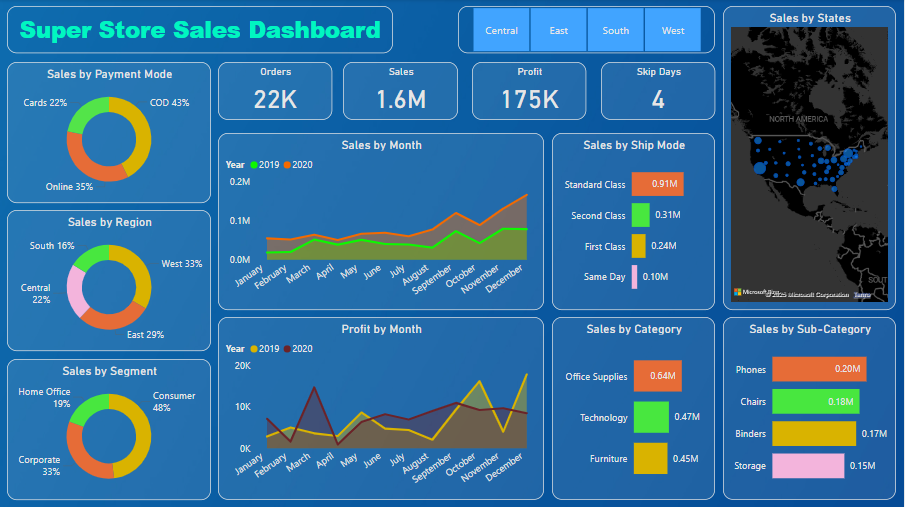

What the dashboard file says about the page in this screenshot:
{"tool":"powerbi","page":{"name":"SuperStore Sales Dashboard","canvas":[1280,720],"ordinal":0},"visuals":[{"type":"slicer","fields":{"Values":["Sheet1.Region"]},"box":[649.1,9.9,364.3,67],"z":0},{"type":"textbox","box":[9.9,9.9,547.1,67],"z":1000},{"type":"clusteredBarChart","title":"Sales by Sub-Category","fields":{"Category":["Sheet1.Sub-Category"],"Y":["Sum(Sheet1.Sales)"]},"box":[1024.7,450.7,245.2,259.4],"z":2000},{"type":"clusteredBarChart","title":"Sales by Category","fields":{"Category":["Sheet1.Category"],"Y":["Sum(Sheet1.Sales)"]},"box":[782.4,450.7,231,259.4],"z":3000},{"type":"clusteredBarChart","title":"Sales by Ship Mode","fields":{"Category":["Sheet1.Ship Mode"],"Y":["Sum(Sheet1.Sales)"]},"box":[782.4,189.9,231,250.9],"z":4000},{"type":"donutChart","title":"Sales by Segment","fields":{"Category":["Sheet1.Segment"],"Y":["Sum(Sheet1.Sales)"]},"box":[9.9,510.2,289.1,200],"z":5000},{"type":"areaChart","title":"Sales by Month","fields":{"Y":["Sum(Sheet1.Sales)"],"Category":["Sheet1.Order Date.Variation.Date Hierarchy.Month","Sheet1.Order Date.Variation.Date Hierarchy.Day"],"Series":["Sheet1.Order Date.Variation.Date Hierarchy.Year"]},"box":[309,189.9,462,251],"z":6000},{"type":"areaChart","title":"Profit by Month","fields":{"Y":["Sum(Sheet1.Profit)"],"Series":["Sheet1.Order Date.Variation.Date Hierarchy.Year"],"Category":["Sheet1.Order Date.Variation.Date Hierarchy.Month","Sheet1.Order Date.Variation.Date Hierarchy.Day"]},"box":[309,450.7,462,259.4],"z":7000},{"type":"donutChart","title":"Sales by Payment Mode","fields":{"Category":["Sheet1.Payment Mode"],"Y":["Sum(Sheet1.Sales)"]},"box":[9.9,89.3,289.1,200],"z":8000},{"type":"card","title":"Sales","fields":{"Values":["Sum(Sheet1.Sales)"]},"box":[486.1,89.3,163,82.2],"z":9000},{"type":"card","title":"Orders","fields":{"Values":["Sum(Sheet1.Quantity)"]},"box":[309,89.3,162,82.2],"z":10000},{"type":"card","title":"Profit","fields":{"Values":["Sum(Sheet1.Profit)"]},"box":[669,89.3,162,82.2],"z":11000},{"type":"card","title":"Skip Days","fields":{"Values":["Avg(Sheet1.AvgDelivery)"]},"box":[851.8,89.3,162,82.2],"z":12000},{"type":"donutChart","title":"Sales by Region","fields":{"Y":["Sum(Sheet1.Sales)"],"Category":["Sheet1.Region"]},"box":[9.9,299.1,289.1,200],"z":13000},{"type":"map","title":"Sales by States","fields":{"Category":["Sheet1.State"],"Size":["Sum(Sheet1.Sales)"]},"box":[1024.7,9.9,245.2,430.9],"z":14000}]}

Visuals, with their boxes in screenshot pixels (x1, y1, x2, y2), scaled from the page's 1280x720 canvas onto the 905x507 screenshot:
slicer - Sheet1.Region: region(459, 7, 717, 54)
textbox: region(7, 7, 394, 54)
"Sales by Sub-Category" clusteredBarChart: region(724, 317, 898, 500)
"Sales by Category" clusteredBarChart: region(553, 317, 717, 500)
"Sales by Ship Mode" clusteredBarChart: region(553, 134, 717, 310)
"Sales by Segment" donutChart: region(7, 359, 211, 500)
"Sales by Month" areaChart: region(218, 134, 545, 310)
"Profit by Month" areaChart: region(218, 317, 545, 500)
"Sales by Payment Mode" donutChart: region(7, 63, 211, 204)
"Sales" card: region(344, 63, 459, 121)
"Orders" card: region(218, 63, 333, 121)
"Profit" card: region(473, 63, 588, 121)
"Skip Days" card: region(602, 63, 717, 121)
"Sales by Region" donutChart: region(7, 211, 211, 351)
"Sales by States" map: region(724, 7, 898, 310)
